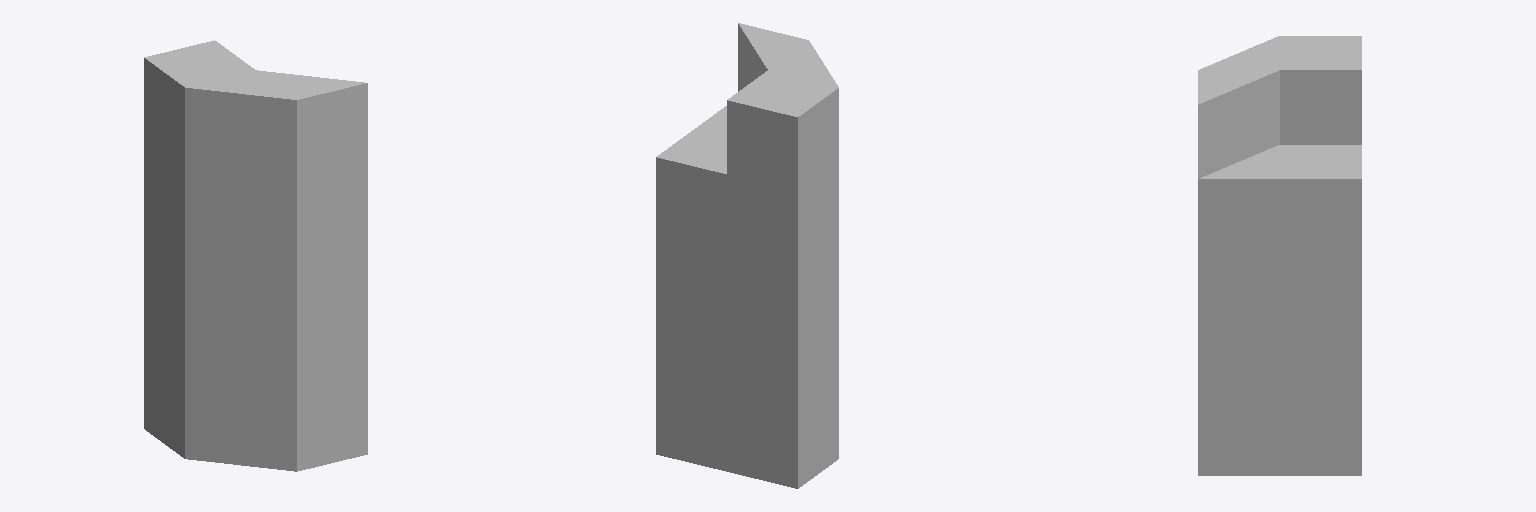
The model's file is Corner4.obj.
3 views of the same model, side by side, from view 1: azimuth 30°, elevation 25°; view 2: azimuth 150°, elevation 25°; view 3: azimuth 270°, elevation 25° (orthographic).
Visible parts, largest first — view 1: Corner4; view 2: Corner4; view 3: Corner4.
Boxes of the visible parts, x1=… form: Corner4: x1=144, y1=40, x2=367, y2=471; Corner4: x1=656, y1=23, x2=838, y2=488; Corner4: x1=1198, y1=36, x2=1361, y2=475.
Bounding box in the file's own units: 2 × 5 × 2.